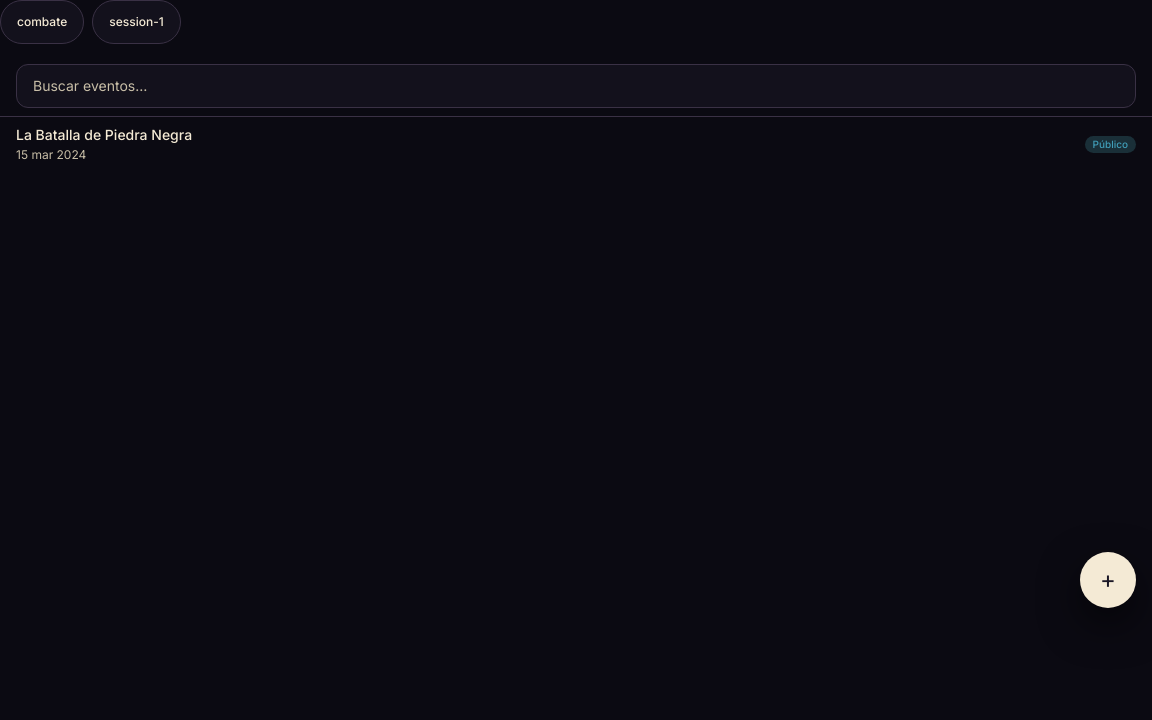
Test: EventClientWrapper — DM view (effectiveView="dm") › (a) edit button is present in detail sheet when DM taps a row
Click the button "La Batalla de Piedra Negra 15 mar 2024 Público".
click(104, 134)  # box top-left (0, 117), bottom-right (1151, 171)
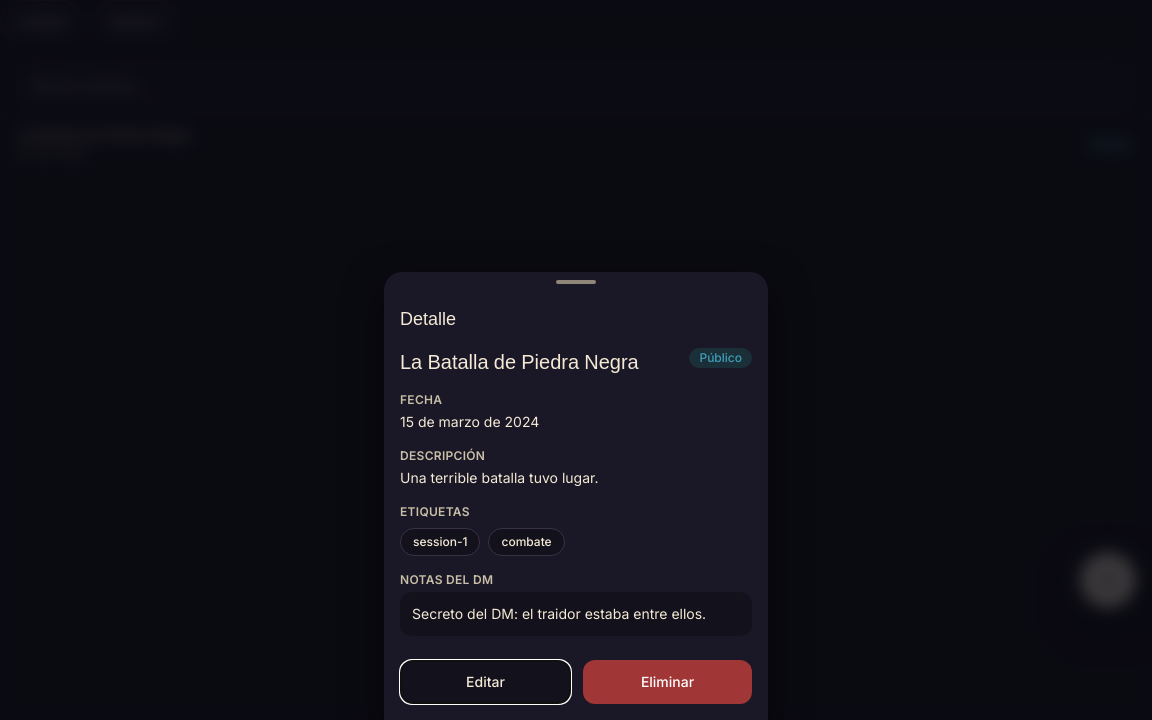
Expected: the button "Editar" is shown, top-left (400, 660), bottom-right (571, 704)
